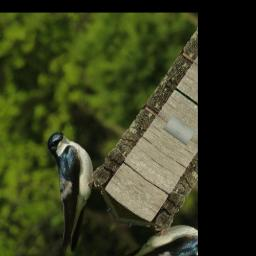Swallow: (0, 126, 127, 256)
